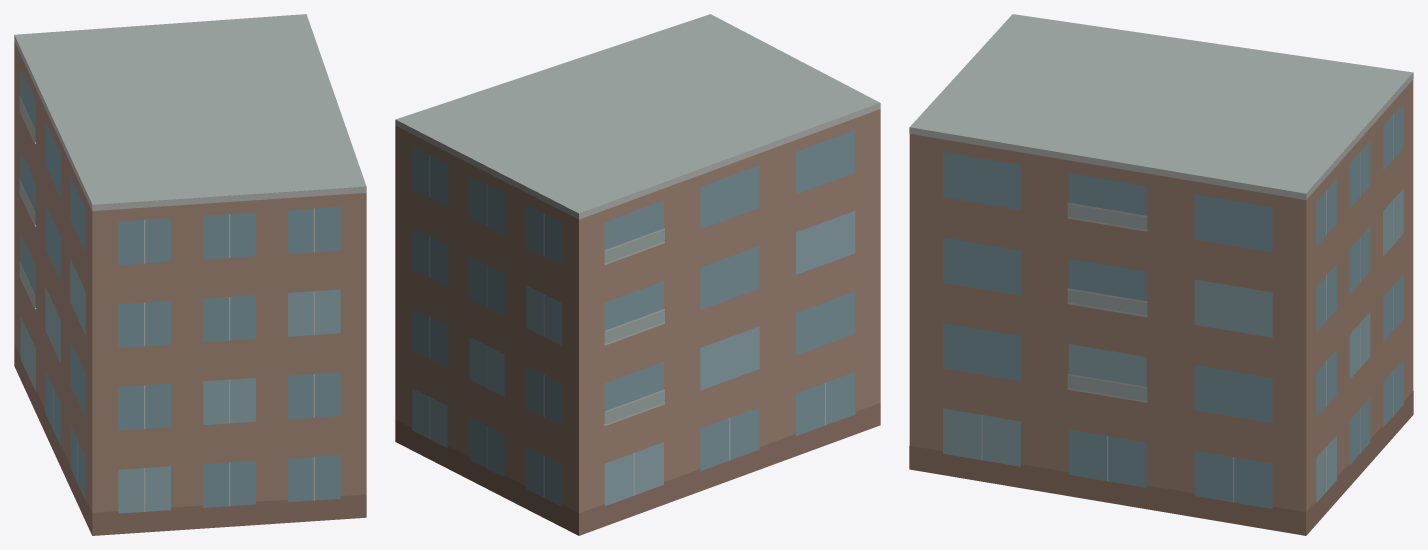
The model's file is survey-upis-32873541.glb.
3 views of the same model, side by side, from view 1: azimuth 30°, elevation 25°; view 2: azimuth 150°, elevation 25°; view 3: azimuth 270°, elevation 25° (orthographic). The views are drawn at different scales.
Parts seen in each view (by area): view 1: survey-upis-32873541.tmp; view 2: survey-upis-32873541.tmp; view 3: survey-upis-32873541.tmp.
Boxes of the visible parts, <box> form: survey-upis-32873541.tmp: <box>14,14,366,535</box>; survey-upis-32873541.tmp: <box>395,14,880,535</box>; survey-upis-32873541.tmp: <box>909,14,1413,535</box>.
Size of the model in its own units: 14.54 by 12.9 by 17.23.
